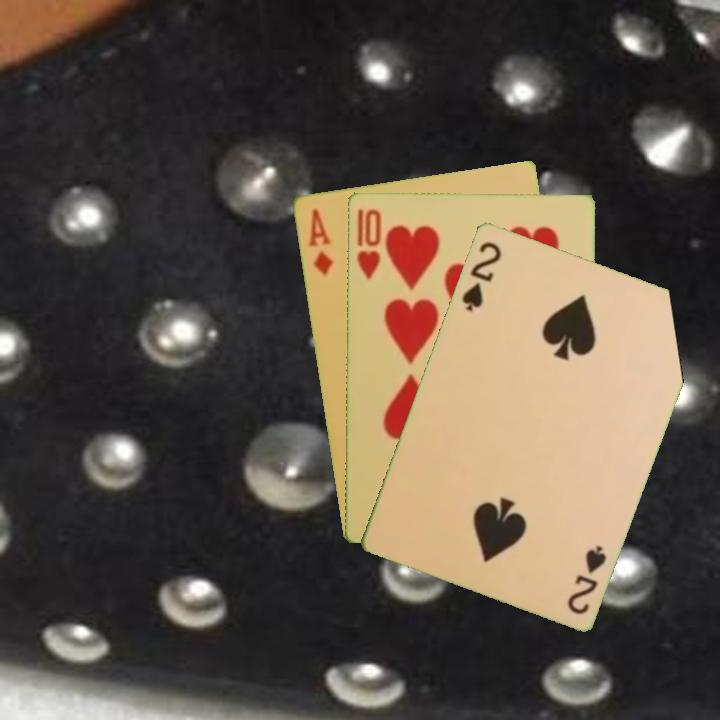10h: (353, 204, 383, 282)
2s: (458, 237, 504, 314), (563, 541, 609, 617)
Ad: (304, 205, 336, 278)
